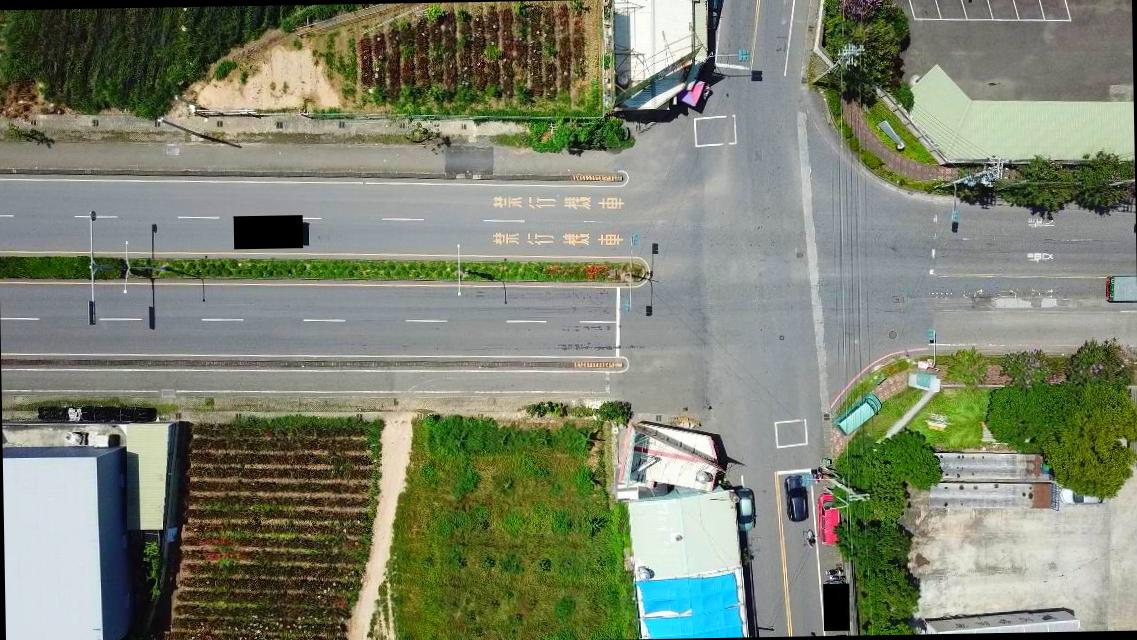vehicle: (833, 394, 883, 438), (783, 474, 810, 522), (816, 492, 840, 542), (1060, 482, 1107, 506), (731, 489, 755, 531), (706, 0, 723, 32)
